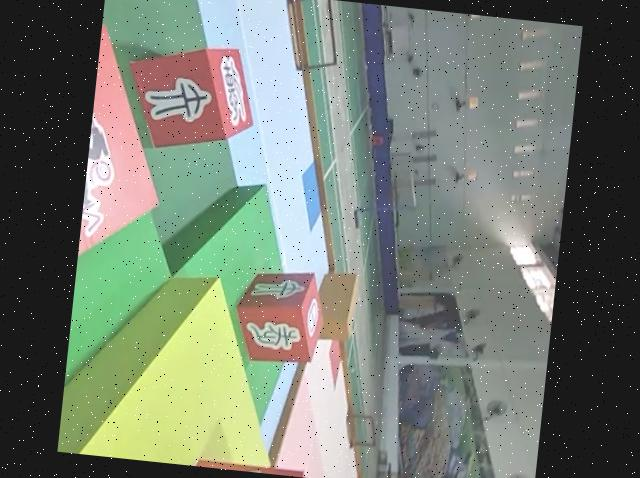R1: (75, 22, 183, 293)
R2 Fake: (119, 36, 264, 160), (229, 263, 333, 367)
